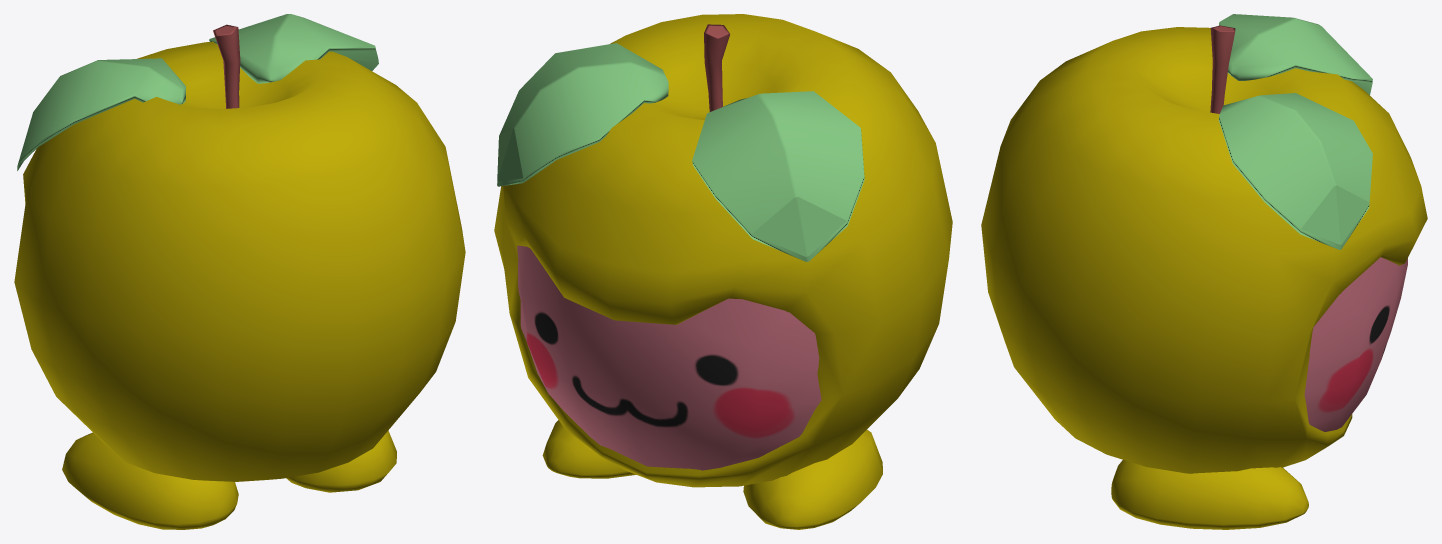
Rendered from apumon_gold.fbx.
The picture shows the model from 3 angles, left to right: view 1: azimuth 30°, elevation 25°; view 2: azimuth 150°, elevation 25°; view 3: azimuth 270°, elevation 25°; orthographic projection. The views are drawn at different scales.
Parts seen in each view (by area): view 1: polySurface184; view 2: polySurface184; view 3: polySurface184.
Boxes of the visible parts, left/top/right/bottom form: polySurface184: left=14, top=14, right=465, bottom=529; polySurface184: left=494, top=14, right=952, bottom=529; polySurface184: left=981, top=14, right=1427, bottom=529.
Bounding box in the file's own units: 2.06 × 2.25 × 2.05.
